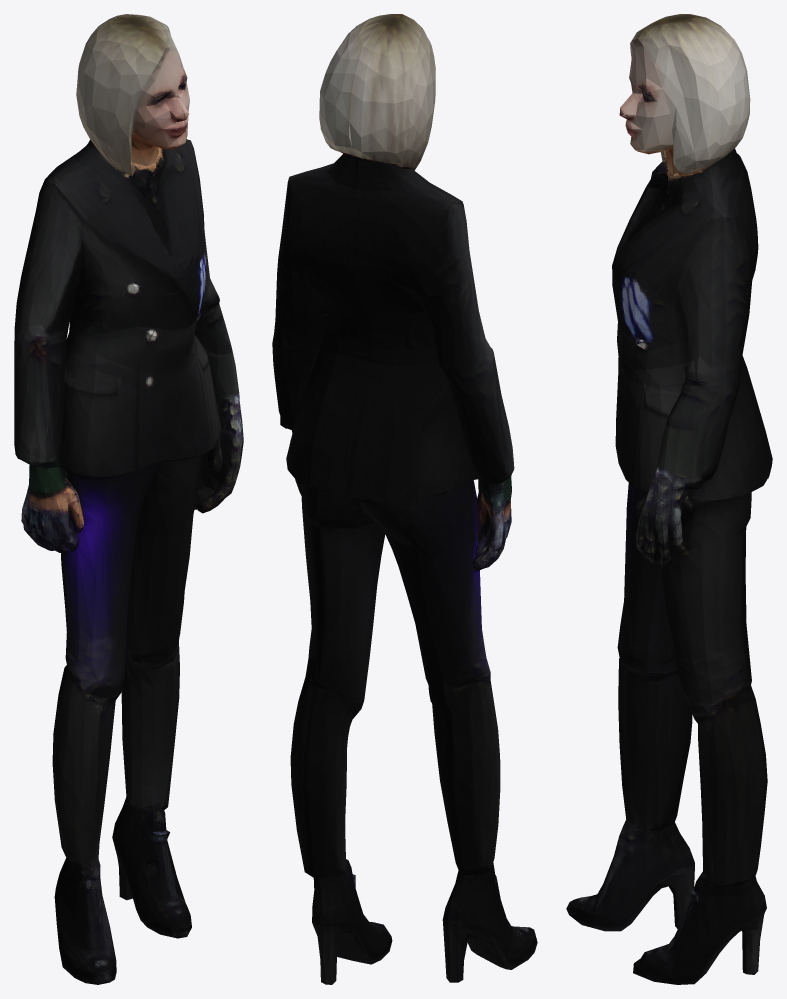
The model's file is joy_meachum.glb.
3 renders of one model, left to right at view 1: azimuth 30°, elevation 25°; view 2: azimuth 150°, elevation 25°; view 3: azimuth 270°, elevation 25°, orthographic. The views are drawn at different scales.
Parts seen in each view (by area): view 1: world; view 2: world; view 3: world.
Boxes of the visible parts, box(x1,y1,x2,y2) form: world: box(14, 14, 243, 984); world: box(272, 14, 537, 984); world: box(566, 14, 772, 984).
Bounding box in the file's own units: 0.2486 × 0.9999 × 0.1986.
Materials: 1 (1 with a texture image).
